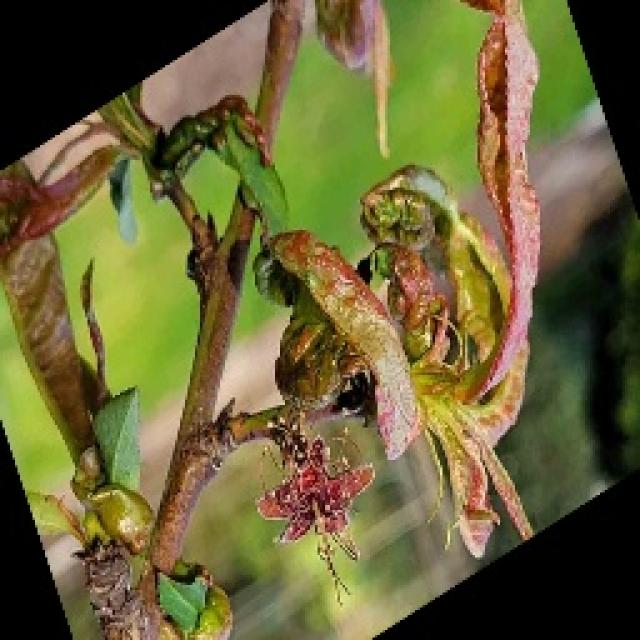peach_leaf_curl: (333, 65, 554, 509), (253, 430, 375, 605)
